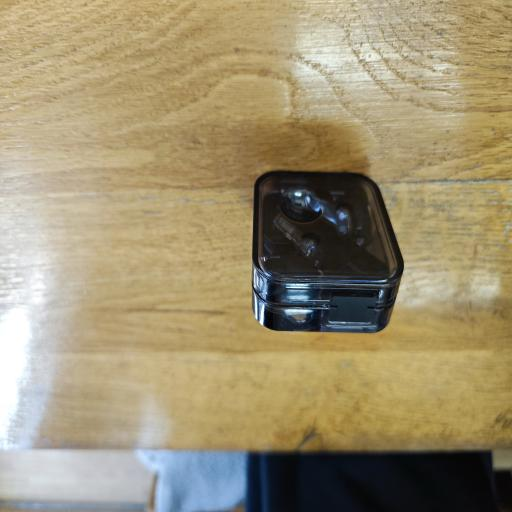CASTI: (247, 160, 412, 337)
